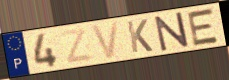4: (32, 32, 60, 69)
E: (186, 6, 221, 48)
K: (125, 18, 155, 55)
N: (152, 10, 191, 53)
V: (90, 20, 121, 60)
Z: (58, 26, 95, 65)
